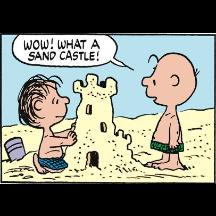charlie: (141, 51, 199, 170)
